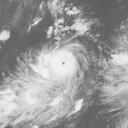cyclone: (50, 49, 79, 78)
